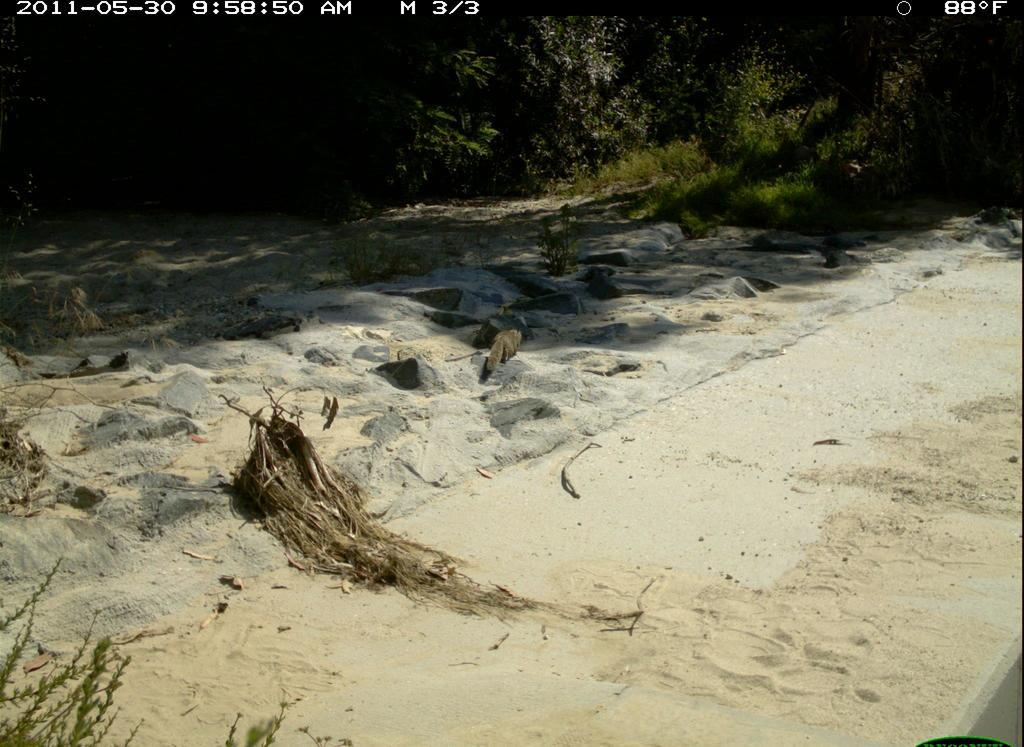squirrel: (485, 324, 528, 378)
